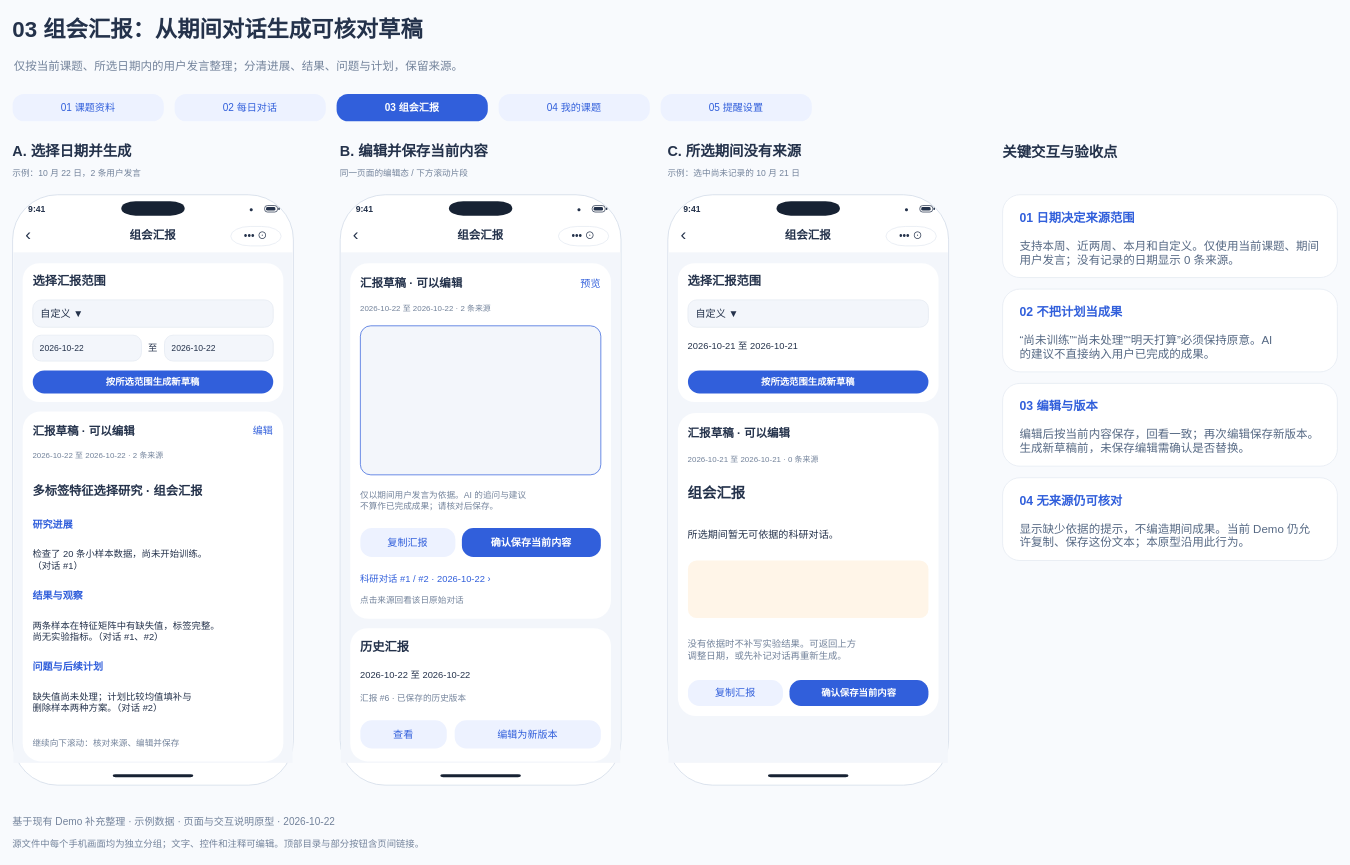
Some shapes in this 1350 by 865 pixel diagram are drawn without their labels. The shapes that lost their labels are listed below. From the top down, each one's centre as x and y in pixels, then its label:
At point (480, 400): "问题与后续计划 缺失值目前仅定位，尚未处理。 明天比较均值填补与删除样本两种方案。 今天还没有实验指标。".
At point (808, 589): "所选日期内没有科研对话。请调整日期， 或先与 AI 聊聊这段时间做了什么。".
